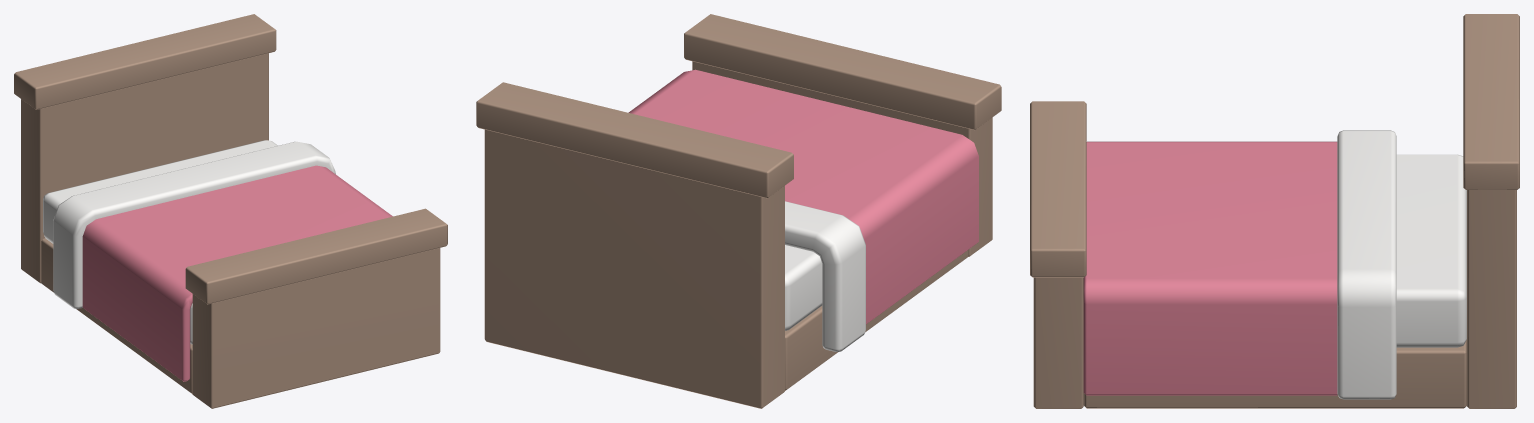
File: Bed_1.glb
3 renders of one model, left to right at view 1: azimuth 30°, elevation 25°; view 2: azimuth 150°, elevation 25°; view 3: azimuth 270°, elevation 25°, orthographic. The views are drawn at different scales.
Parts seen in each view (by area): view 1: Bed_2; view 2: Bed_2; view 3: Bed_2.
Part boxes in pixels (box(x1,y1,x2,y2)): Bed_2: box(14, 14, 447, 408); Bed_2: box(476, 14, 1001, 408); Bed_2: box(1030, 14, 1519, 408).
Size of the model in its own units: 2.14 by 1.54 by 2.73.
1 material, 1 textured.
